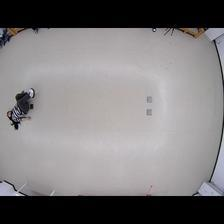fall: (7, 88, 36, 131)
